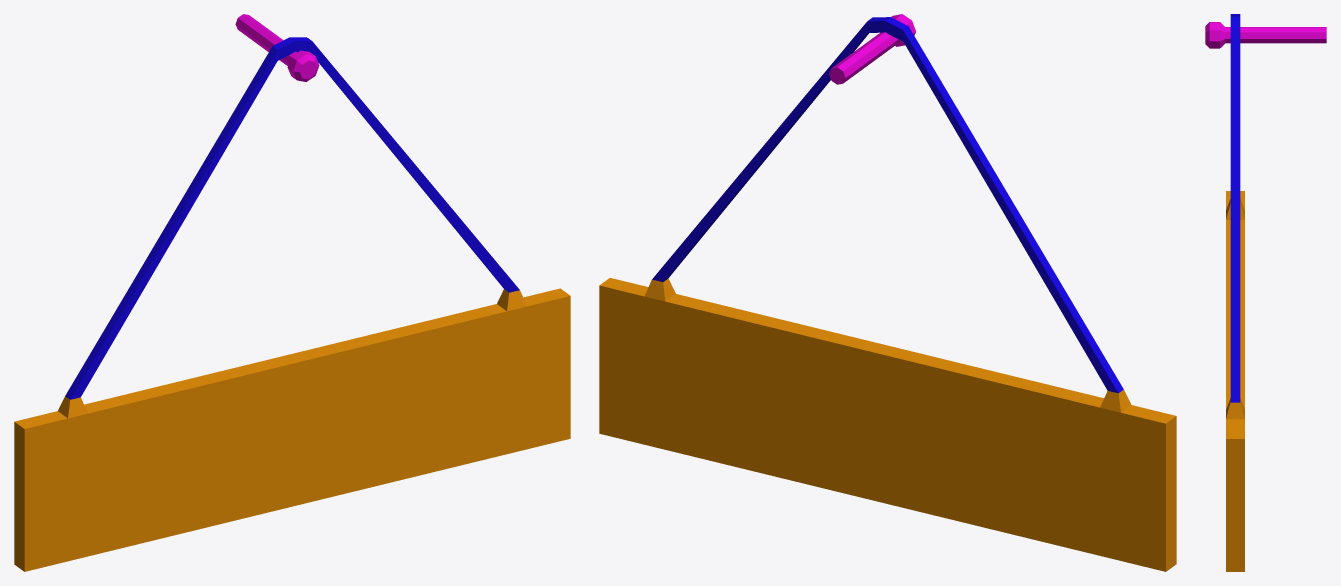
Rendered from insegna_frutta_verdura.fbx.
The picture shows the model from 3 angles, left to right: view 1: azimuth 30°, elevation 25°; view 2: azimuth 150°, elevation 25°; view 3: azimuth 270°, elevation 25°; orthographic projection. The views are drawn at different scales.
Visible parts, largest first — view 1: Frutta; view 2: Frutta; view 3: Frutta.
Part boxes in pixels (x1,y1,x2,y2): Frutta: (14, 14, 570, 571); Frutta: (599, 14, 1176, 571); Frutta: (1205, 14, 1326, 571).
Size of the model in its own units: 600 by 486 by 124.
